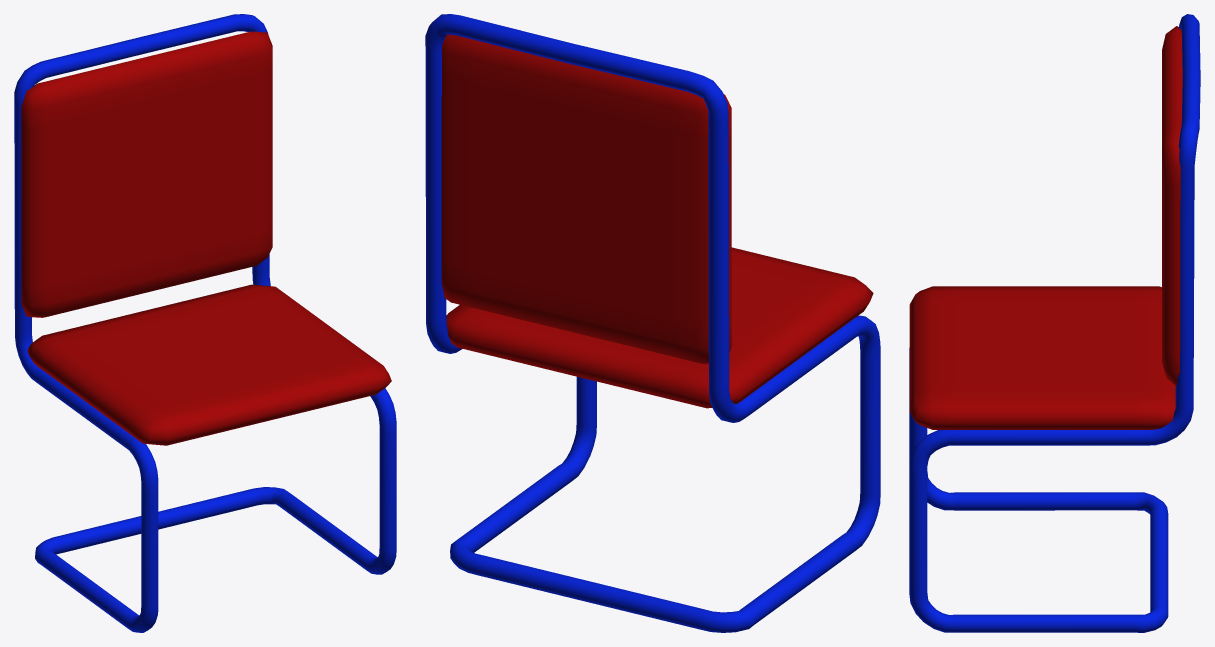
Rendered from 3D_ENVCHAIR_001.FBX.
3 views of the same model, side by side, from view 1: azimuth 30°, elevation 25°; view 2: azimuth 150°, elevation 25°; view 3: azimuth 270°, elevation 25° (orthographic). The views are drawn at different scales.
Parts seen in each view (by area): view 1: Box002, Box001, Cylinder002; view 2: Box002, Cylinder002, Box001; view 3: Box001, Cylinder002, Box002.
Part boxes in pixels (box(x1,y1,x2,y2)): Box002: box(21, 31, 272, 317); Box001: box(27, 284, 391, 445); Cylinder002: box(14, 14, 396, 632); Box002: box(441, 34, 731, 364); Cylinder002: box(425, 14, 880, 632); Box001: box(446, 247, 873, 408); Box001: box(909, 286, 1175, 429); Cylinder002: box(909, 14, 1200, 632); Box002: box(1162, 26, 1182, 385).
Bounding box in the file's own units: 326 × 590 × 309.
